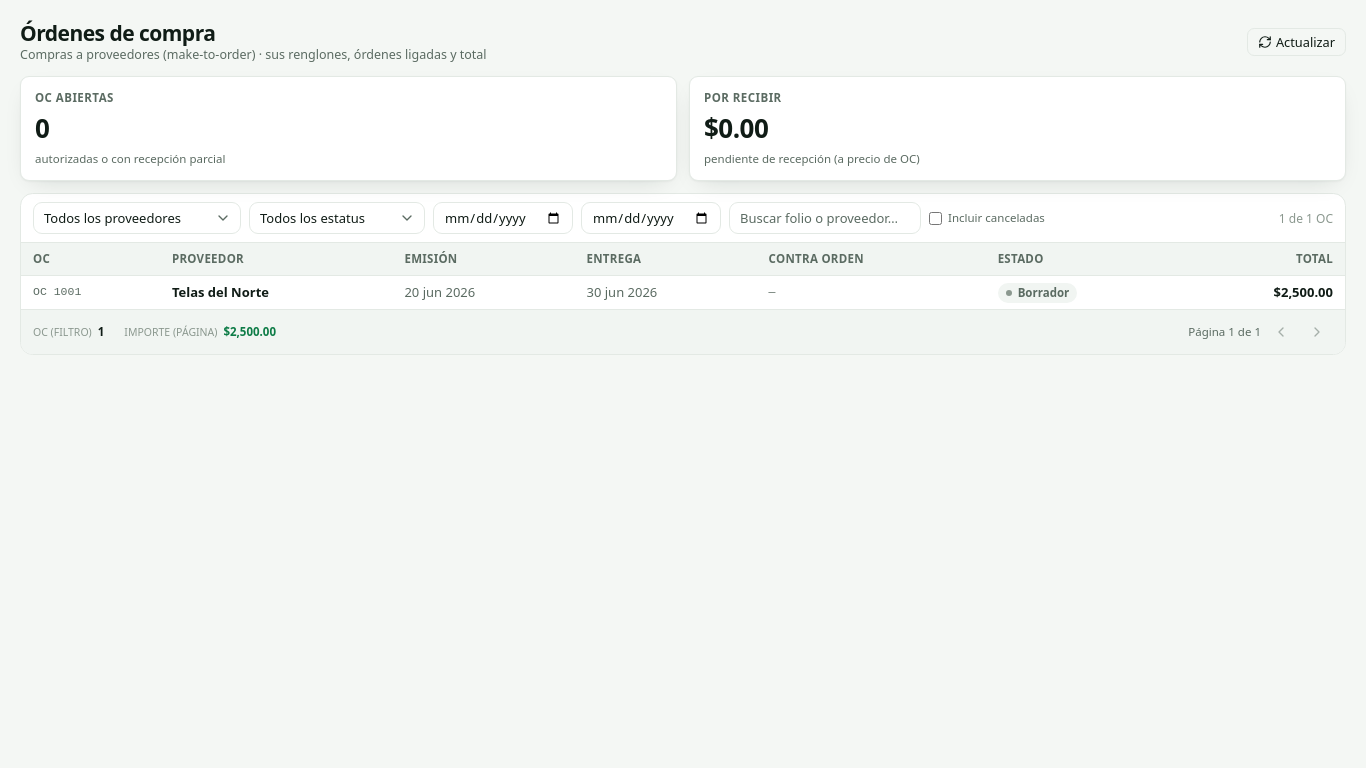
Test: OrdenesCompraPagina (F4-E2) › §Post-F9.15 — dar entrada a la tela desde la OC › en una OC sin autorizar NO aparece, pero DICE por qué (§Post-F9.16)
Click the row with test id "fila-oc" at (220, 292), box [21,275,1345,309]
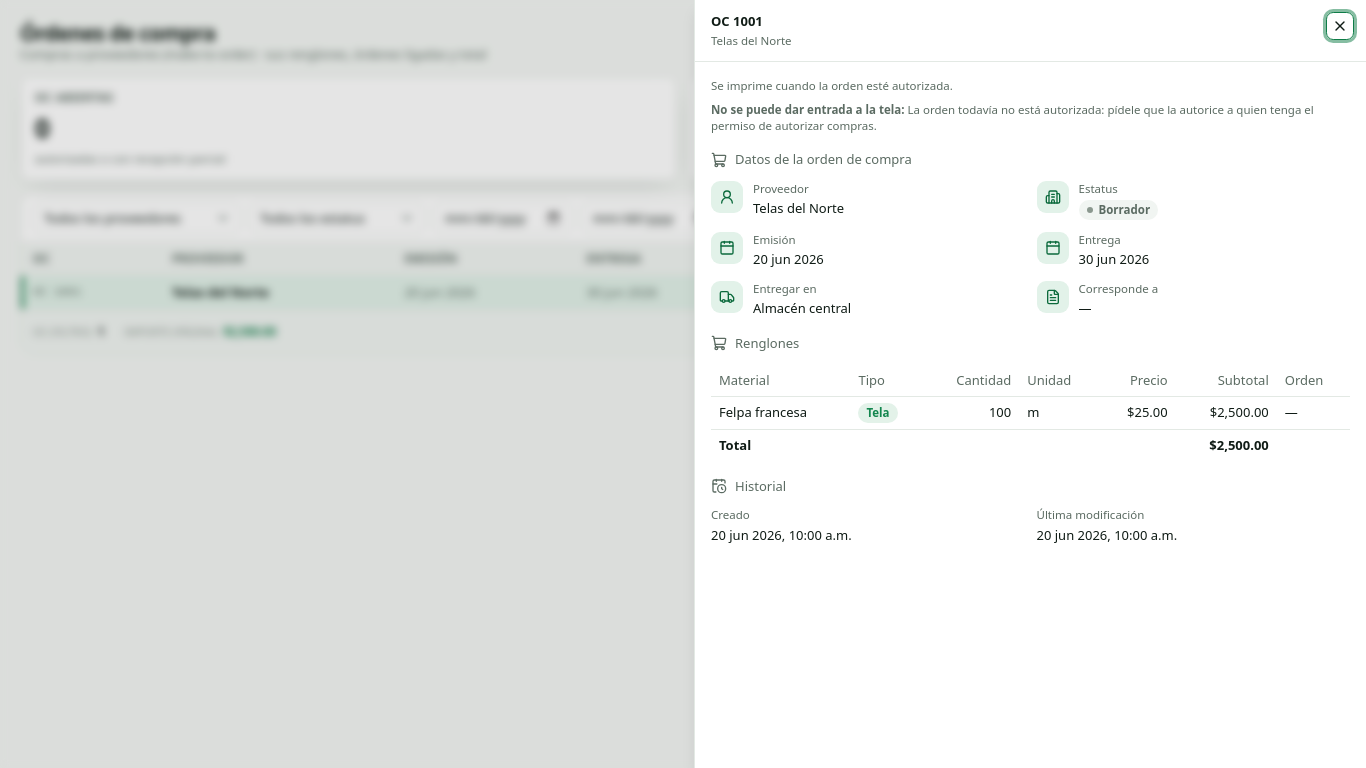
Expected: the element with test id "oc-sin-entrada-tela" shows "no está autorizada", [711,102,1314,133]
